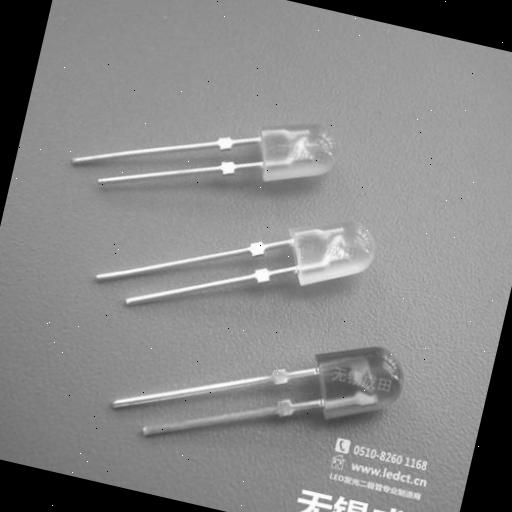LED: (274, 272, 434, 468), (192, 80, 378, 236), (220, 176, 384, 330)
